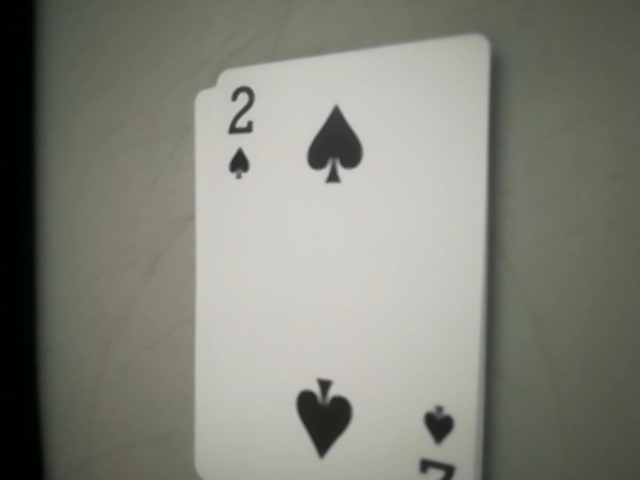ht 2: (207, 79, 279, 195), (409, 398, 467, 480)
